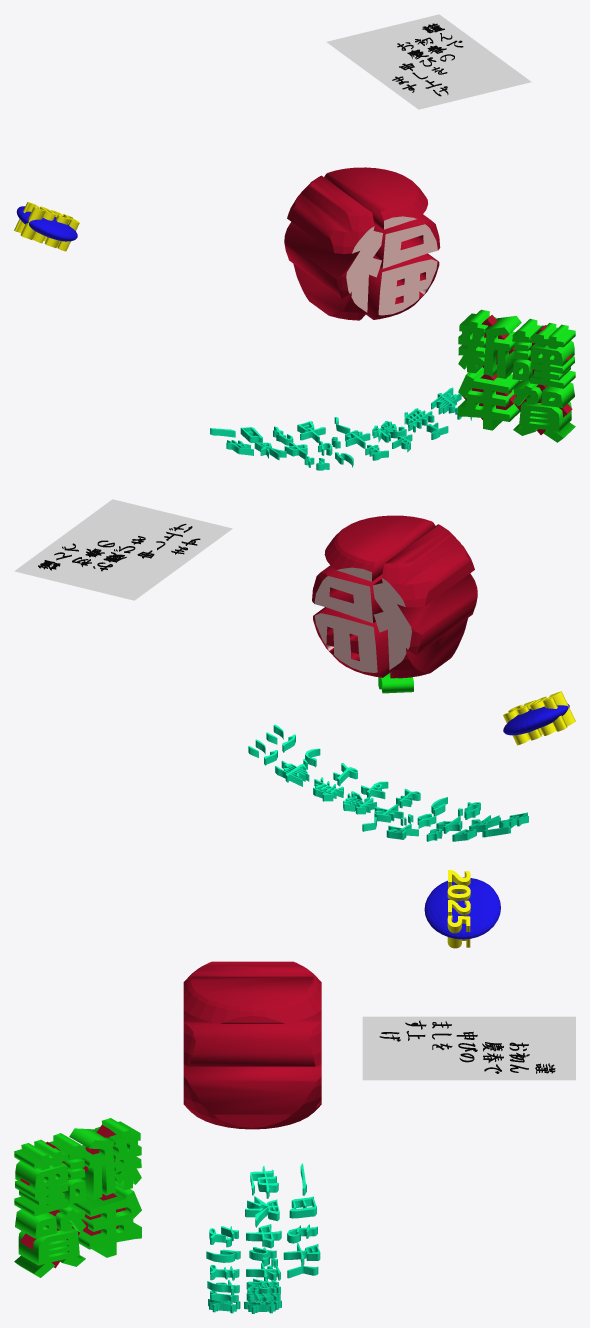
3 views of the same model, one above another, from view 1: azimuth 30°, elevation 25°; view 2: azimuth 150°, elevation 25°; view 3: azimuth 270°, elevation 25° (orthographic). The views are drawn at different scales.
Parts seen in each view (by area): view 1: fuku, 謹賀新年, 謹んで台紙, 平穏無事, 2025, 謹んで, 球.001; view 2: fuku, 謹んで台紙, 平穏無事, 謹んで, 2025, 球.001, 謹賀新年; view 3: fuku, 謹賀新年, 謹んで台紙, 平穏無事, 球.001, 謹んで, 2025.
Part boxes in pixels (<box>): fuku: <box>284,167,440,320</box>; 謹賀新年: <box>458,309,575,442</box>; 謹んで台紙: <box>326,14,531,109</box>; 平穏無事: <box>210,387,472,470</box>; 2025: <box>14,202,79,251</box>; 謹んで: <box>392,23,463,96</box>; 球.001: <box>16,206,77,241</box>; fuku: <box>312,515,477,678</box>; 謹んで台紙: <box>14,499,232,600</box>; 平穏無事: <box>248,724,528,841</box>; 謹んで: <box>38,524,200,571</box>; 2025: <box>503,691,575,745</box>; 球.001: <box>503,703,569,735</box>; 謹賀新年: <box>378,673,413,693</box>; fuku: <box>183,961,321,1129</box>; 謹賀新年: <box>14,1118,141,1277</box>; 謹んで台紙: <box>362,1016,575,1080</box>; 平穏無事: <box>206,1163,320,1313</box>; 球.001: <box>424,877,500,939</box>; 謹んで: <box>379,1020,555,1073</box>; 2025: <box>447,870,470,948</box>.
Bounding box in the file's own units: 6.37 × 3.58 × 5.7.
